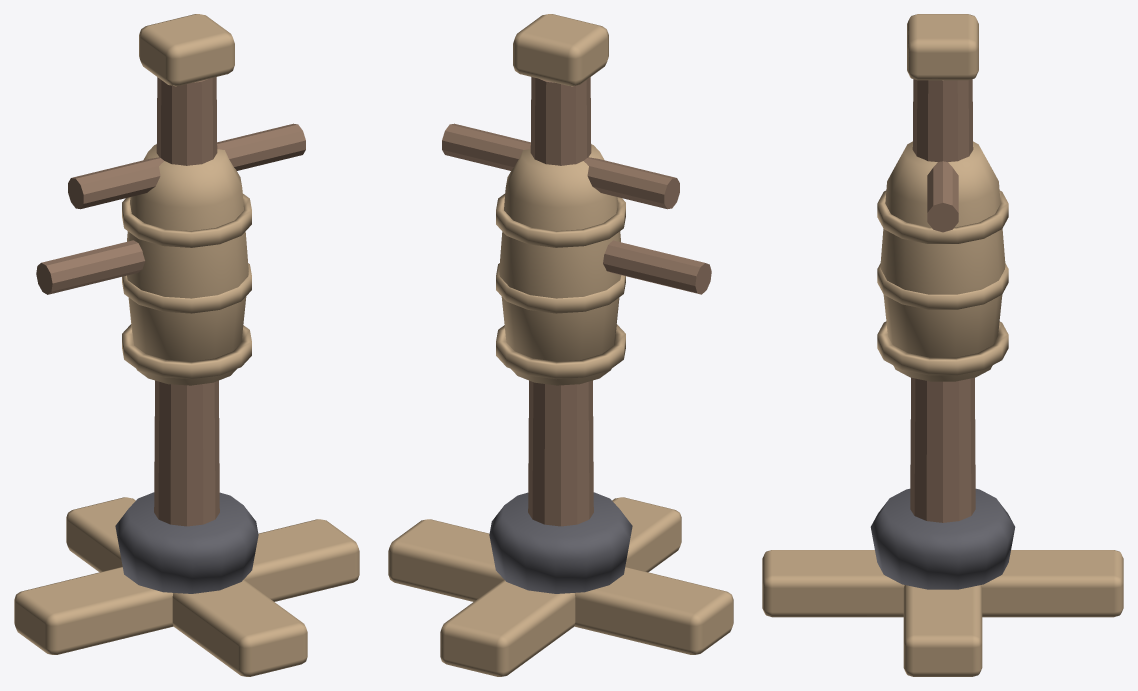
Rendered from imperial-china-palace-and-garden-training-dummy-6fdfc7e8__36212.glb.
3 renders of one model, left to right at view 1: azimuth 30°, elevation 25°; view 2: azimuth 150°, elevation 25°; view 3: azimuth 270°, elevation 25°, orthographic.
Parts seen in each view (by area): view 1: training-dummy, dummy/wood, dummy/timber; view 2: training-dummy, dummy/wood, dummy/timber; view 3: training-dummy, dummy/wood, dummy/timber.
Boxes of the visible parts, <box> form: training-dummy: <box>14,492,359,676</box>; dummy/wood: <box>122,14,251,385</box>; dummy/timber: <box>36,77,305,526</box>; training-dummy: <box>388,492,733,676</box>; dummy/wood: <box>496,14,625,385</box>; dummy/timber: <box>442,77,711,526</box>; training-dummy: <box>762,488,1123,676</box>; dummy/wood: <box>877,14,1008,381</box>; dummy/timber: <box>910,79,975,522</box>.
Size of the model in its own units: 1.1 by 1.94 by 1.1.
